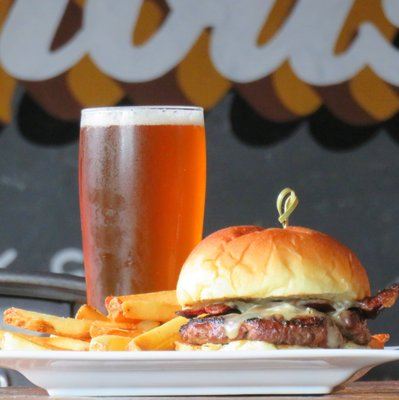pizza: (76, 105, 208, 317)
soup: (135, 225, 397, 352)
